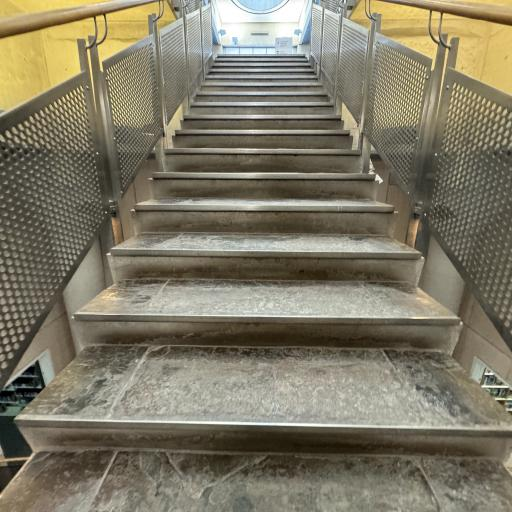Stairs: (0, 55, 512, 512), (17, 298, 512, 456), (0, 449, 512, 512), (74, 278, 460, 353), (109, 232, 423, 286), (133, 197, 396, 236), (150, 171, 378, 200), (172, 129, 352, 149), (182, 114, 344, 130)
